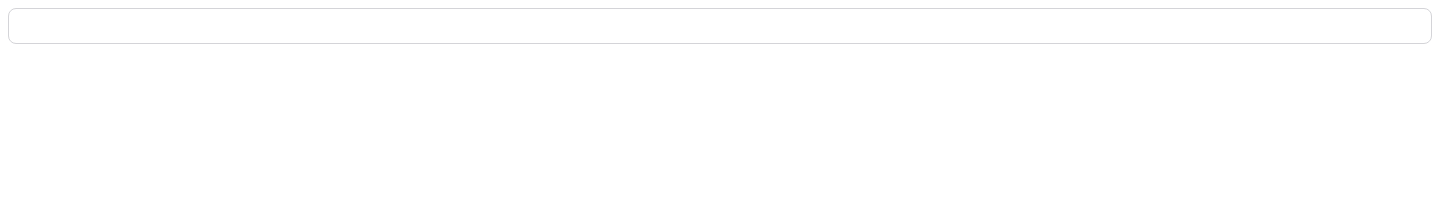
Test case: SelectInput mode=searchable › closes the list on Tab
Click the dropdown: [720, 26] box [8, 8, 1432, 44]
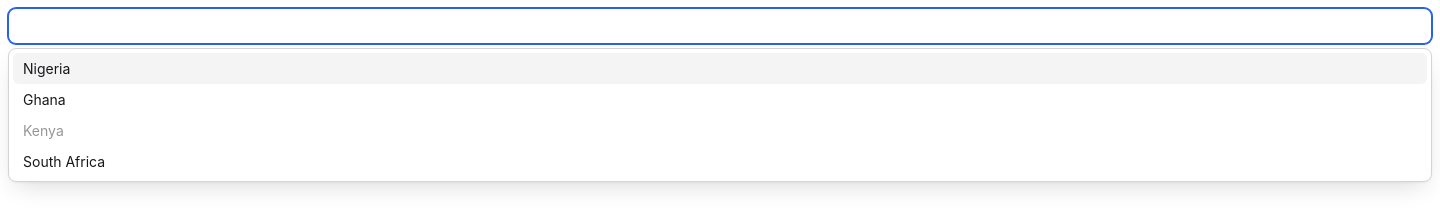
Press Tab
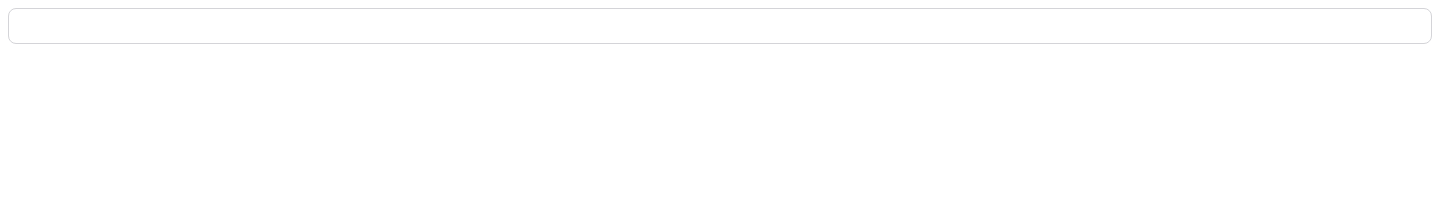
Result: the list is gone
